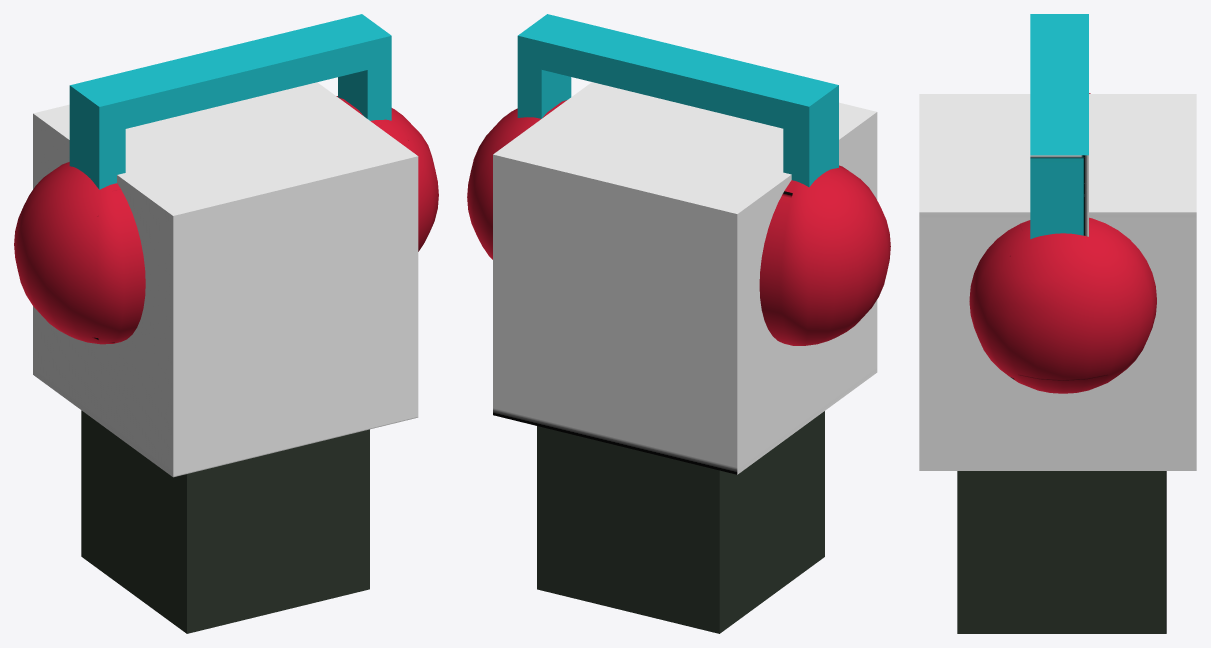
Rendered from deaf eric.fbx.
The picture shows the model from 3 angles, left to right: view 1: azimuth 30°, elevation 25°; view 2: azimuth 150°, elevation 25°; view 3: azimuth 270°, elevation 25°; orthographic projection.
Visible parts, largest first — view 1: polySurface23; view 2: polySurface23; view 3: polySurface23.
Boxes of the visible parts, left/top/right/bottom form: polySurface23: left=14, top=14, right=438, bottom=633; polySurface23: left=467, top=14, right=890, bottom=633; polySurface23: left=919, top=14, right=1196, bottom=633.
Bounding box in the file's own units: 4.59 × 5.65 × 2.8.
